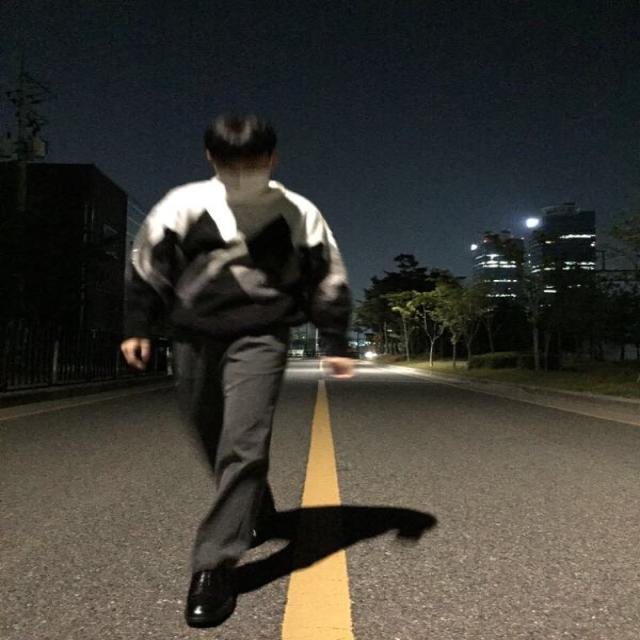denimpants: (171, 320, 289, 569)
mtm: (118, 178, 352, 352)
